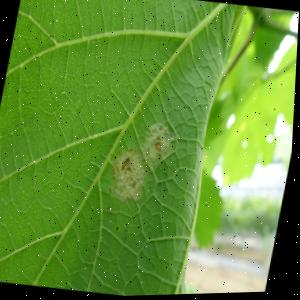Folha: (0, 0, 247, 300)
Fungo: (105, 116, 178, 208), (107, 144, 152, 205), (139, 120, 177, 173), (153, 136, 163, 151)
